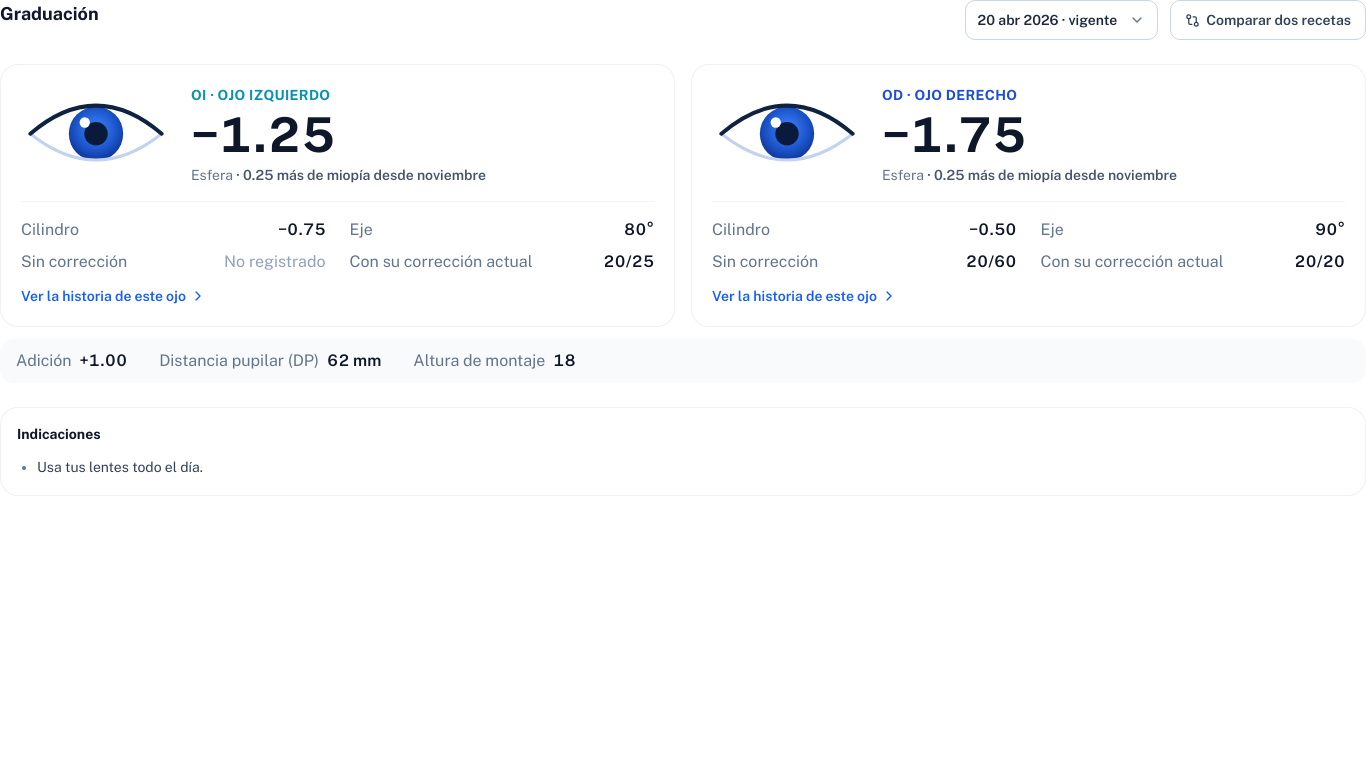
La graduación, un solo componente con dos versiones › cada tarjeta de ojo se pulsa y abre «Historia de este ojo»: todas sus recetas en una tabla y la gráfica de su esfera; una fila elige esa receta
Click the button named "Ver la historia del ojo derecho" at (1028, 196), box [692,65,1365,326]
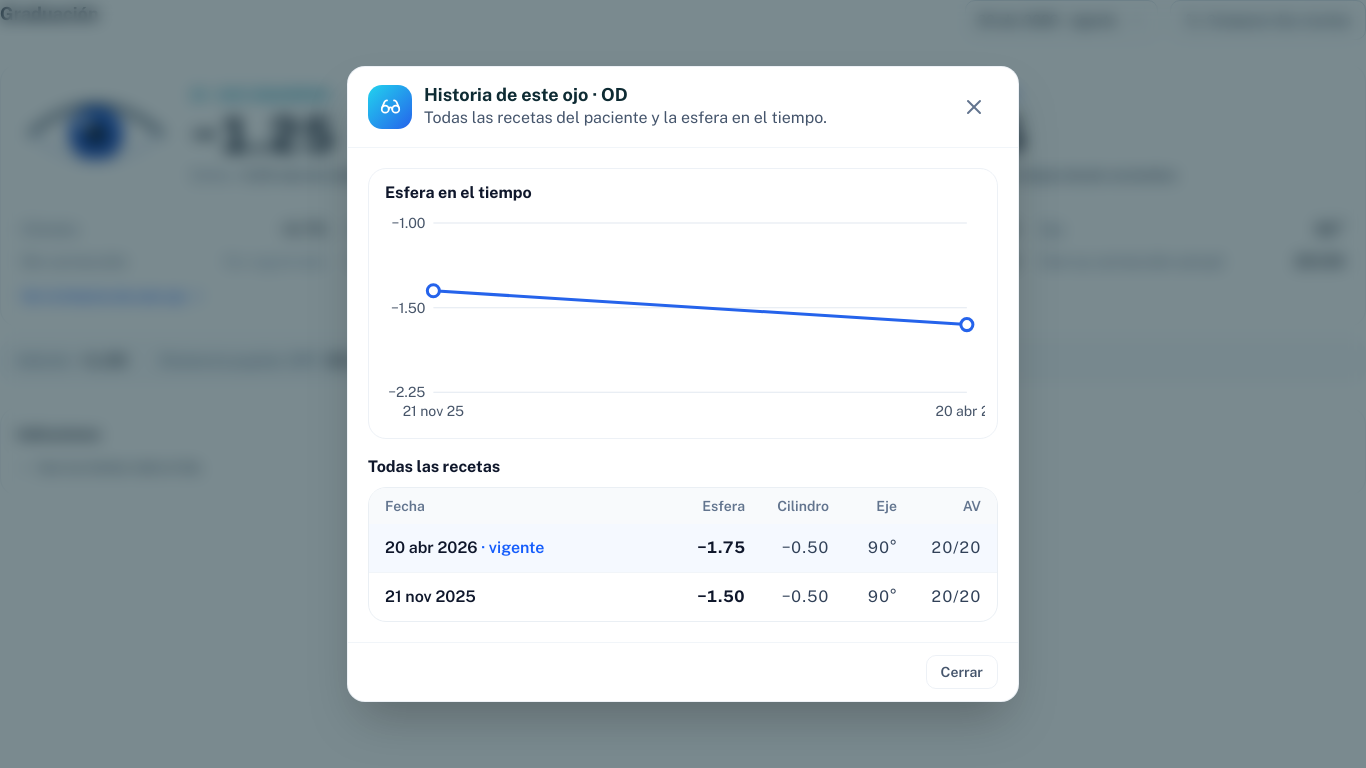
Check: the picture named "Gráfica de la esfera del ojo derecho" is shown, box [381,205,985,426]
Check: the number of buttons named "Ver la receta del" is 2
Click the button with aria-label "Ver la receta del" at (430, 597), box [369,573,997,621]
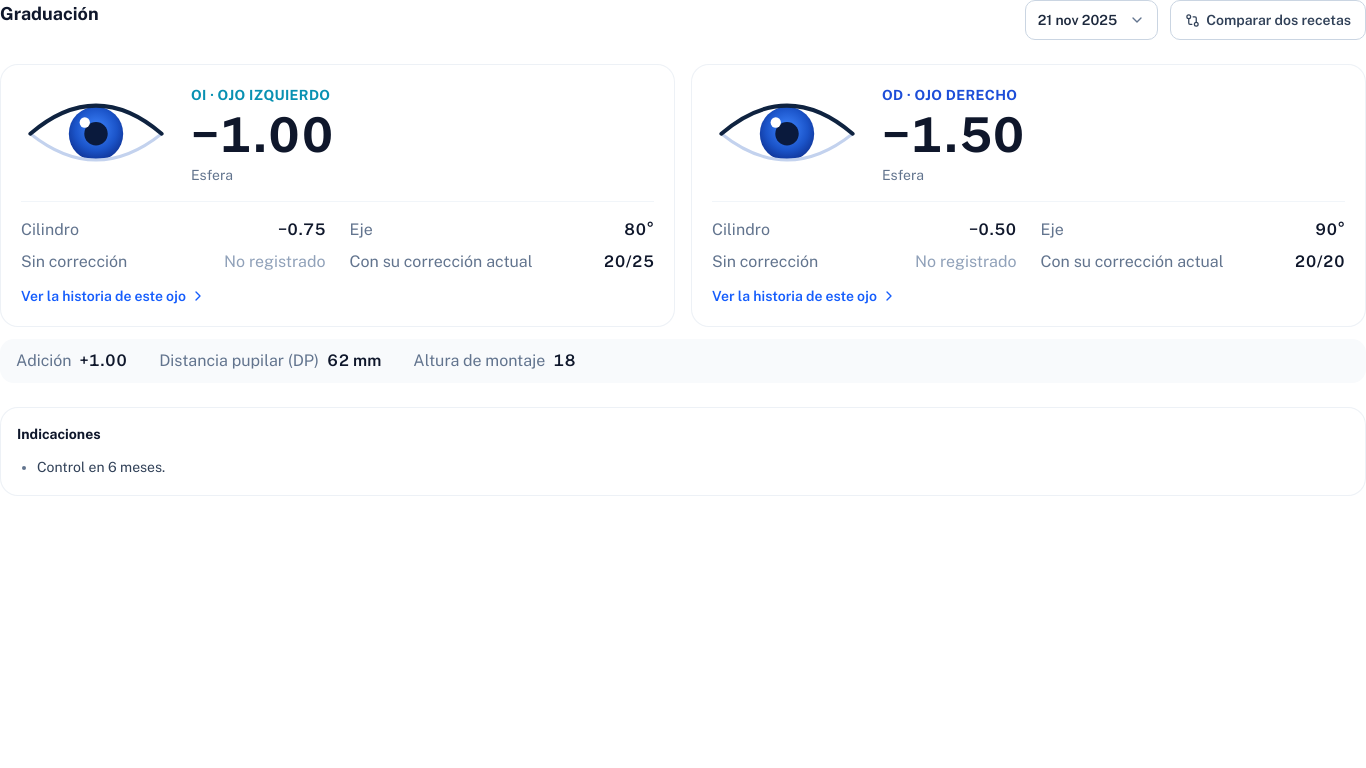
Check: the button with aria-label "Elegir otra receta" no longer shows "vigente", box [1025,0,1158,40]
